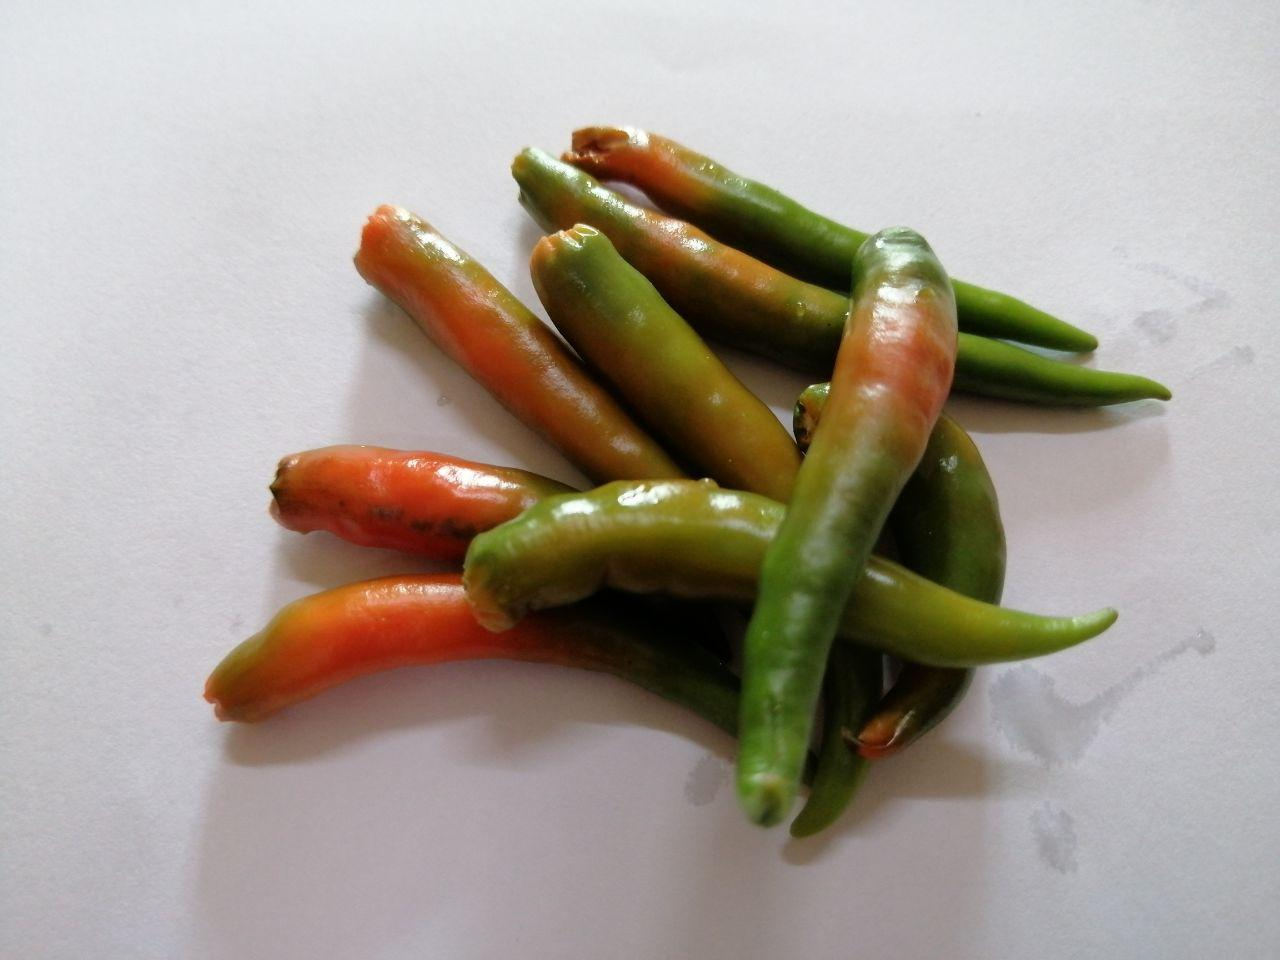lada hijau: (733, 189, 971, 859), (466, 478, 1135, 693), (558, 105, 1115, 356)
